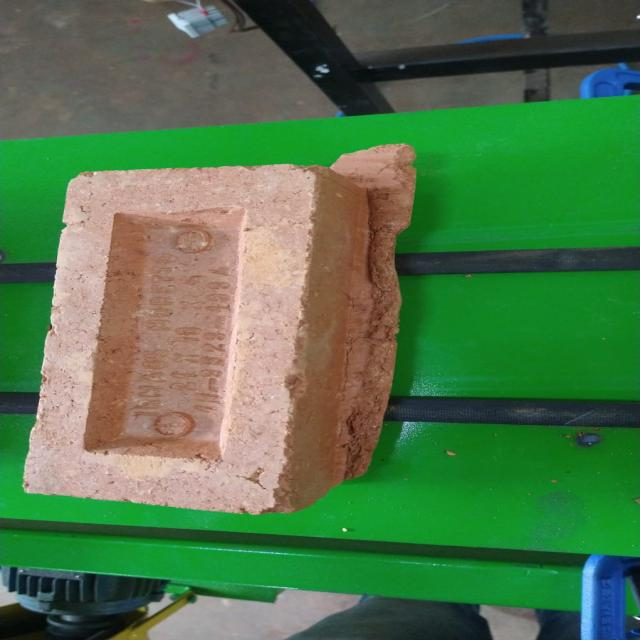bricks_ruin: (18, 142, 415, 518)
